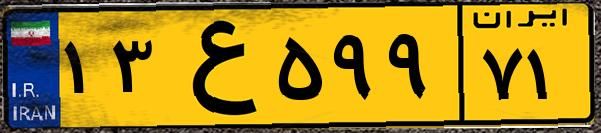1: (57, 26, 110, 100), (525, 38, 570, 115)
3: (110, 28, 158, 98)
5: (270, 28, 330, 110)
7: (475, 38, 525, 113)
9: (385, 28, 445, 110), (330, 28, 385, 110)
ع: (158, 12, 270, 120)
